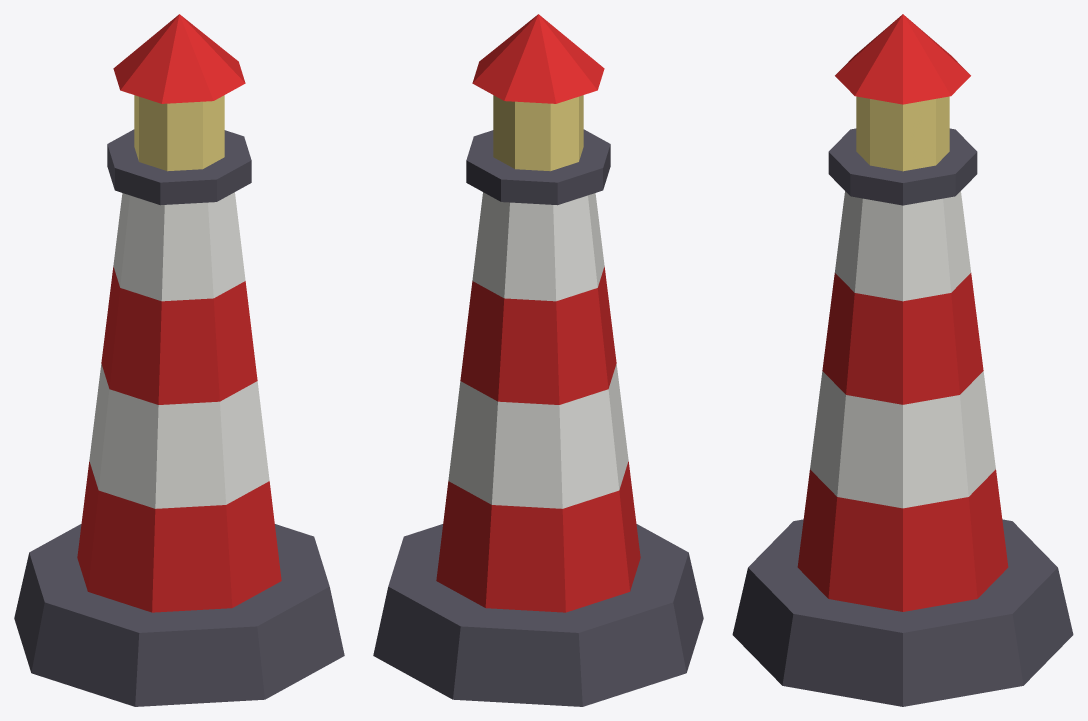
Rendered from hielo_faro.obj.
The picture shows the model from 3 angles, left to right: view 1: azimuth 30°, elevation 25°; view 2: azimuth 150°, elevation 25°; view 3: azimuth 270°, elevation 25°; orthographic projection.
Visible parts, largest first — view 1: hielo_faro; view 2: hielo_faro; view 3: hielo_faro.
Boxes of the visible parts, x1,y1,x2,y2 form: hielo_faro: (14, 14, 344, 706); hielo_faro: (373, 14, 703, 706); hielo_faro: (732, 14, 1073, 706).
Size of the model in its own units: 1.1 by 2.21 by 1.1.
